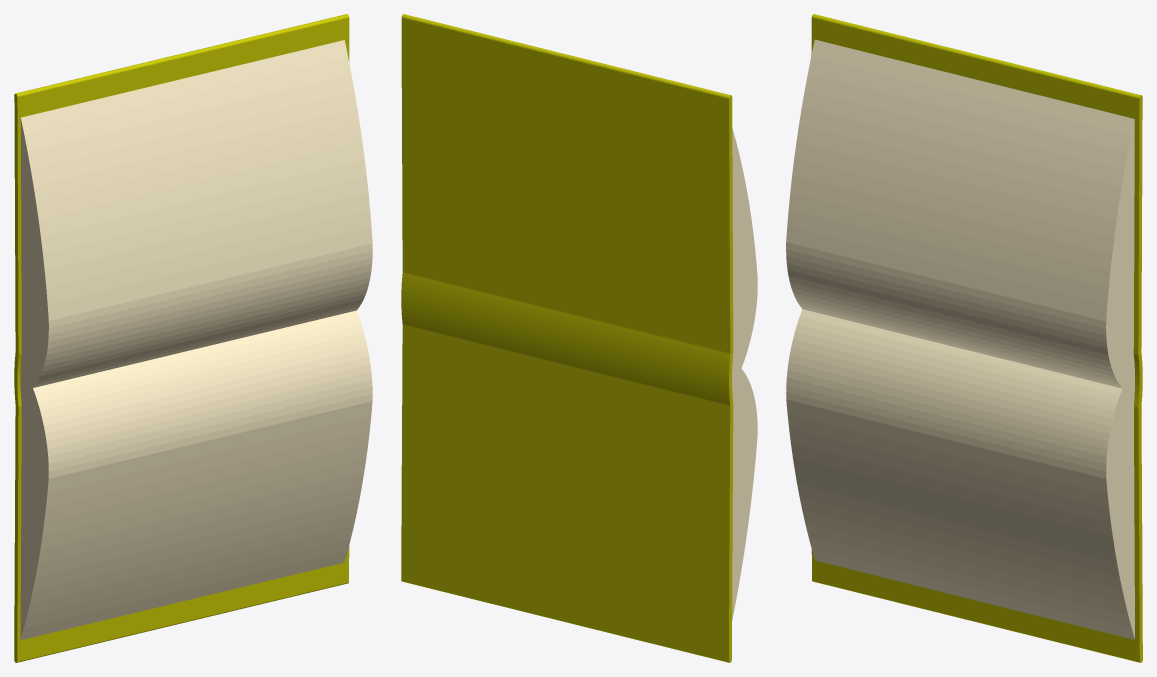
3 renders of one model, left to right at view 1: azimuth 30°, elevation 25°; view 2: azimuth 150°, elevation 25°; view 3: azimuth 330°, elevation 25°, orthographic.
Parts seen in each view (by area): view 1: open book; view 2: open book; view 3: open book.
Part boxes in pixels (box(x1,y1,x2,y2)): open book: box(14, 14, 372, 662); open book: box(401, 14, 757, 662); open book: box(786, 14, 1142, 662).
Size of the model in its own units: 9.39 by 15.45 by 1.64.
